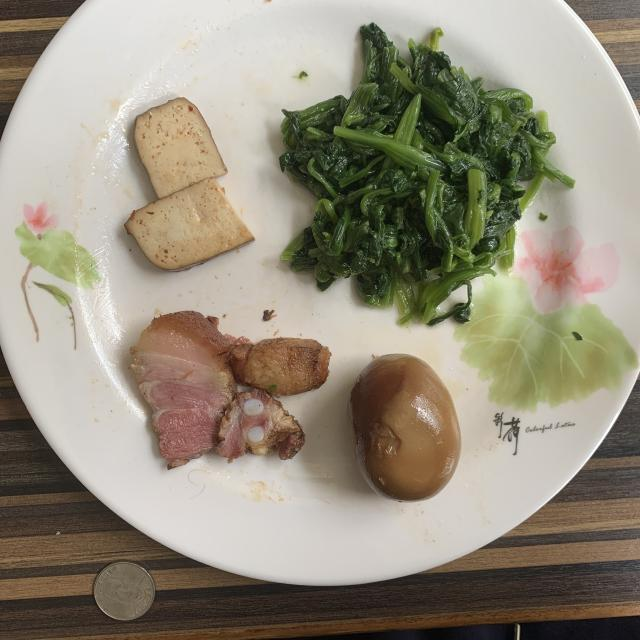coin: (94, 561, 155, 621)
firm tofu: (125, 98, 254, 271)
grilled pork: (130, 311, 331, 469)
mustard greens: (280, 24, 574, 325)
soy egg: (348, 354, 461, 501)
